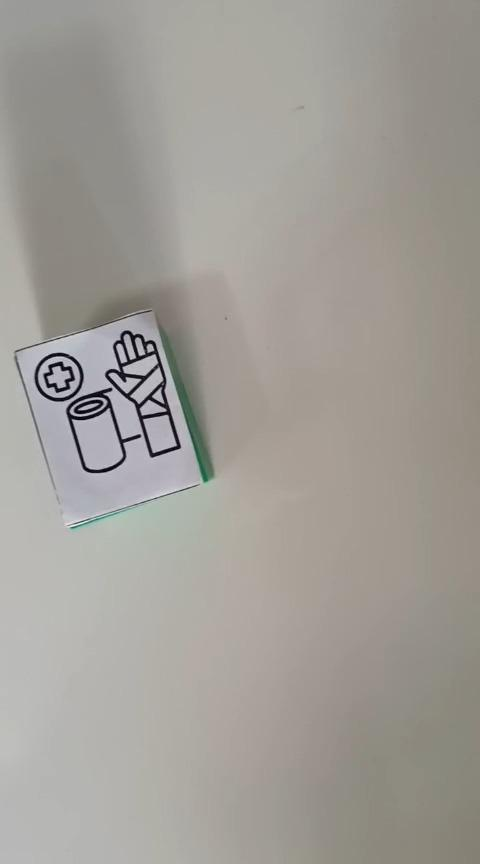Bandages: (14, 307, 211, 528)
